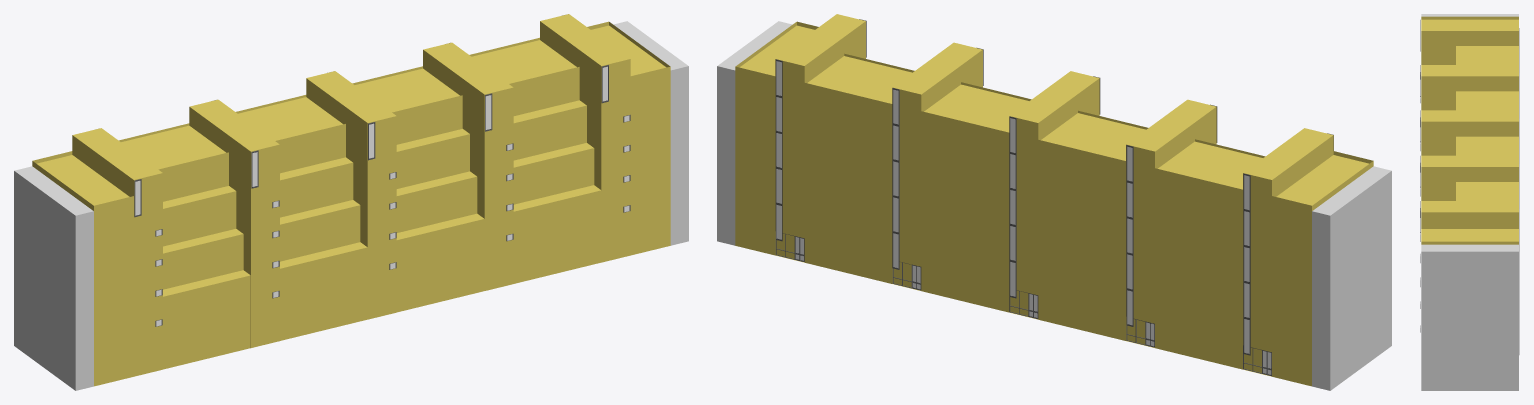
File: second_build.glb
The picture shows the model from 3 angles, left to right: view 1: azimuth 30°, elevation 25°; view 2: azimuth 150°, elevation 25°; view 3: azimuth 270°, elevation 25°; orthographic projection. The views are drawn at different scales.
Visible parts, largest first — view 1: Плоскость.007, Плоскость.017, Плоскость.024, Плоскость.012, Плоскость.001, Плоскость.023, Плоскость.002, Плоскость.016, Плоскость.021, Плоскость.006, Плоскость.011, Плоскость.013 (+21 smaller); view 2: Плоскость.013, Плоскость.018, Плоскость.008, Плоскость.003, Плоскость.001, Плоскость.023, Плоскость.024, Плоскость.007, Плоскость.012, Плоскость.017, Плоскость.002, Плоскость.034 (+9 smaller); view 3: Плоскость.038, Плоскость.002, Плоскость.007, Плоскость.012, Плоскость.017, Плоскость.036, Плоскость.037, Плоскость.022, Плоскость.024, Плоскость.035, Плоскость.023, Плоскость.008 (+5 smaller).
Boxes of the visible parts, bbox=[...] form: Плоскость.007: bbox=[189, 99, 279, 347]; Плоскость.017: bbox=[423, 42, 513, 290]; Плоскость.024: bbox=[540, 14, 630, 262]; Плоскость.012: bbox=[306, 71, 396, 319]; Плоскость.001: bbox=[32, 151, 133, 386]; Плоскость.023: bbox=[587, 21, 670, 255]; Плоскость.002: bbox=[72, 128, 162, 376]; Плоскость.016: bbox=[396, 213, 484, 312]; Плоскость.021: bbox=[513, 185, 601, 283]; Плоскость.006: bbox=[163, 270, 250, 369]; Плоскость.011: bbox=[280, 242, 367, 340]; Плоскость.013: bbox=[352, 66, 462, 144]; Плоскость.013: bbox=[921, 82, 1031, 312]; Плоскость.018: bbox=[804, 53, 914, 283]; Плоскость.008: bbox=[1038, 110, 1148, 340]; Плоскость.003: bbox=[1155, 139, 1265, 369]; Плоскость.001: bbox=[1272, 151, 1373, 386]; Плоскость.023: bbox=[735, 21, 818, 255]; Плоскость.024: bbox=[775, 14, 865, 262]; Плоскость.007: bbox=[1126, 99, 1216, 347]; Плоскость.012: bbox=[1009, 71, 1099, 319]; Плоскость.017: bbox=[892, 42, 982, 290]; Плоскость.002: bbox=[1243, 128, 1333, 376]; Плоскость.034: bbox=[1312, 166, 1391, 250]; Плоскость.038: bbox=[1421, 244, 1518, 279]; Плоскость.002: bbox=[1421, 19, 1518, 64]; Плоскость.007: bbox=[1421, 65, 1518, 110]; Плоскость.012: bbox=[1421, 110, 1518, 155]; Плоскость.017: bbox=[1421, 155, 1518, 200]; Плоскость.036: bbox=[1421, 307, 1518, 335]; Плоскость.037: bbox=[1421, 279, 1518, 307]; Плоскость.022: bbox=[1421, 363, 1518, 390]; Плоскость.024: bbox=[1421, 201, 1518, 228]; Плоскость.035: bbox=[1421, 335, 1518, 362]; Плоскость.023: bbox=[1421, 229, 1518, 244]; Плоскость.008: bbox=[1456, 91, 1518, 110].
Bounding box in the file's own units: 82.08 × 25.15 × 14.45.
